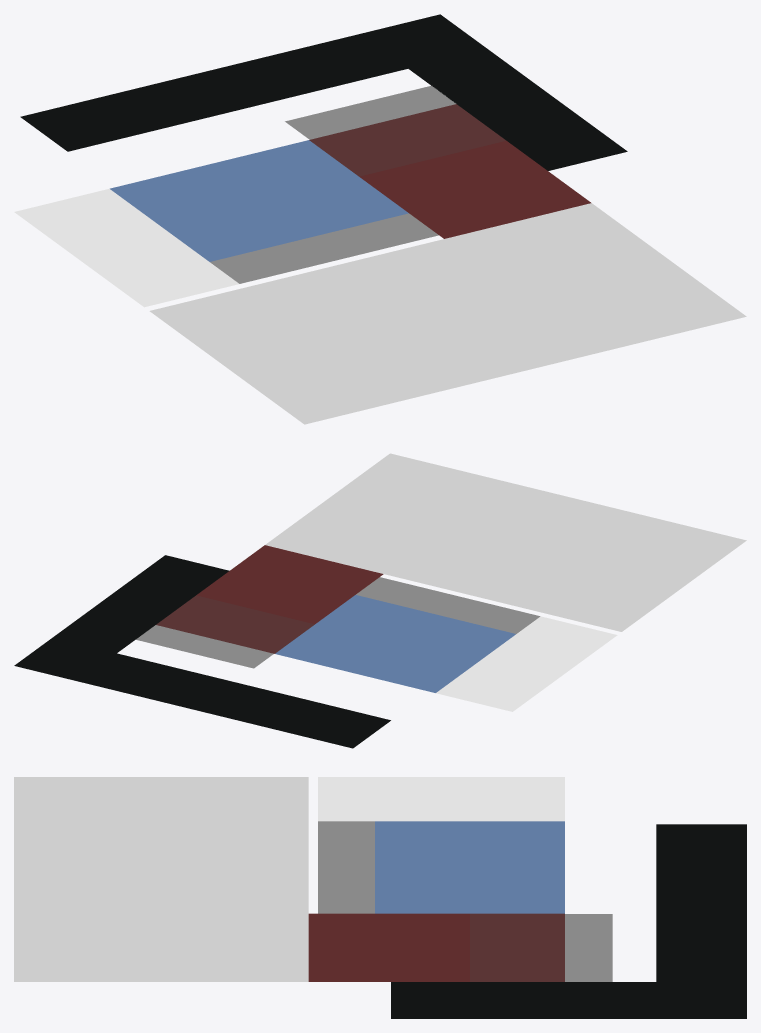
The model's file is floor.FBX.
3 views of the same model, one above another, from view 1: azimuth 30°, elevation 25°; view 2: azimuth 150°, elevation 25°; view 3: azimuth 270°, elevation 25° (orthographic). The views are drawn at different scales.
Visible parts, largest first — view 1: Plane006, Hallway_Floor_01, Plane009, Plane007, Plane011, Hallway_Floor_02, Plane003, Plane010, Plane008; view 2: Plane006, Hallway_Floor_01, Plane009, Plane007, Plane011, Hallway_Floor_02, Plane003, Plane010, Plane008; view 3: Plane006, Hallway_Floor_01, Plane009, Plane007, Plane011, Hallway_Floor_02, Plane003, Plane010, Plane008.
Part boxes in pixels (left/top/right/bottom): Plane006: left=149, top=203, right=746, bottom=424; Hallway_Floor_01: left=20, top=14, right=487, bottom=151; Plane009: left=110, top=140, right=408, bottom=261; Plane007: left=359, top=140, right=590, bottom=238; Plane011: left=14, top=188, right=238, bottom=307; Hallway_Floor_02: left=408, top=49, right=627, bottom=170; Plane003: left=309, top=104, right=505, bottom=176; Plane010: left=210, top=213, right=438, bottom=283; Plane008: left=285, top=85, right=456, bottom=139; Plane006: left=265, top=453, right=746, bottom=631; Hallway_Floor_01: left=14, top=637, right=390, bottom=748; Plane009: left=275, top=595, right=515, bottom=692; Plane007: left=196, top=545, right=383, bottom=624; Plane011: left=436, top=616, right=617, bottom=711; Hallway_Floor_02: left=53, top=555, right=229, bottom=653; Plane003: left=156, top=595, right=314, bottom=653; Plane010: left=356, top=577, right=540, bottom=633; Plane008: left=136, top=625, right=273, bottom=668; Plane006: left=14, top=777, right=308, bottom=981; Hallway_Floor_01: left=656, top=824, right=746, bottom=1018; Plane009: left=375, top=821, right=564, bottom=913; Plane007: left=308, top=913, right=469, bottom=981; Plane011: left=318, top=777, right=564, bottom=821; Hallway_Floor_02: left=391, top=982, right=656, bottom=1018; Plane003: left=470, top=913, right=564, bottom=981; Plane010: left=318, top=821, right=374, bottom=913; Plane008: left=565, top=914, right=612, bottom=981.
Bounding box in the file's own units: 602 × 5.13e-08 × 772.
